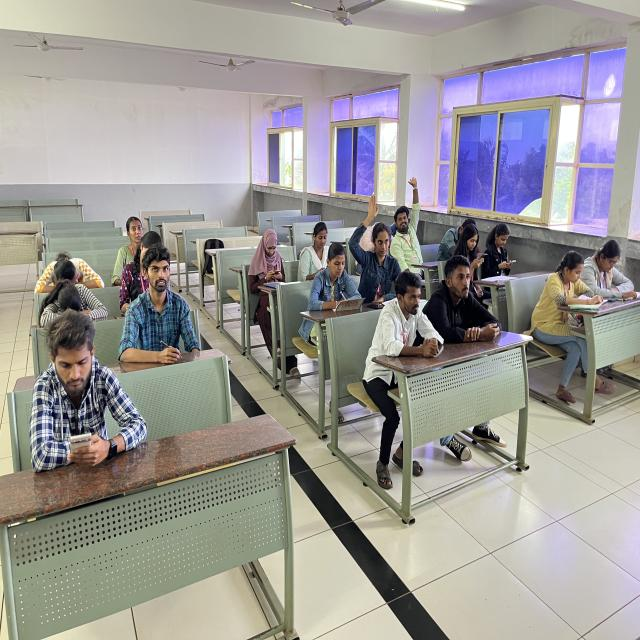Hand Rising: (348, 191, 404, 304), (386, 176, 434, 277)
Reading: (539, 249, 603, 346), (588, 229, 640, 297)
Sleeping: (25, 218, 109, 300), (27, 273, 112, 331)
Using Phone: (21, 312, 150, 488), (244, 221, 298, 319), (485, 208, 526, 279), (296, 214, 331, 281), (454, 222, 492, 271)
Writing: (130, 244, 198, 363), (309, 240, 367, 326)
